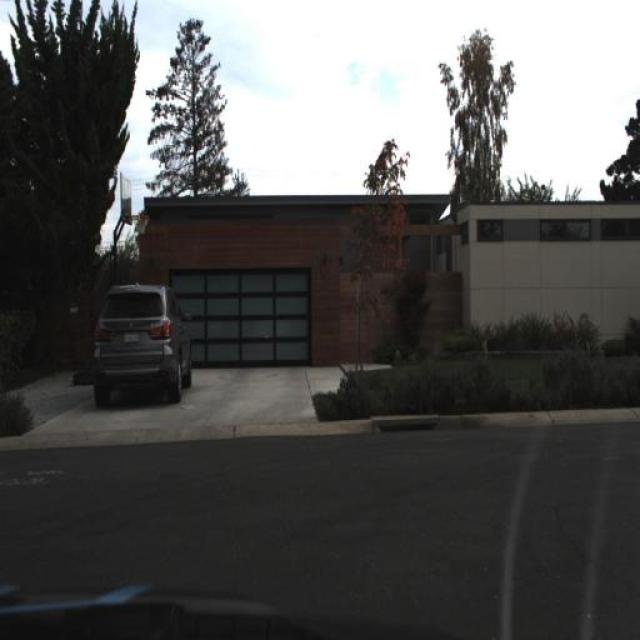car: (83, 282, 195, 406)
